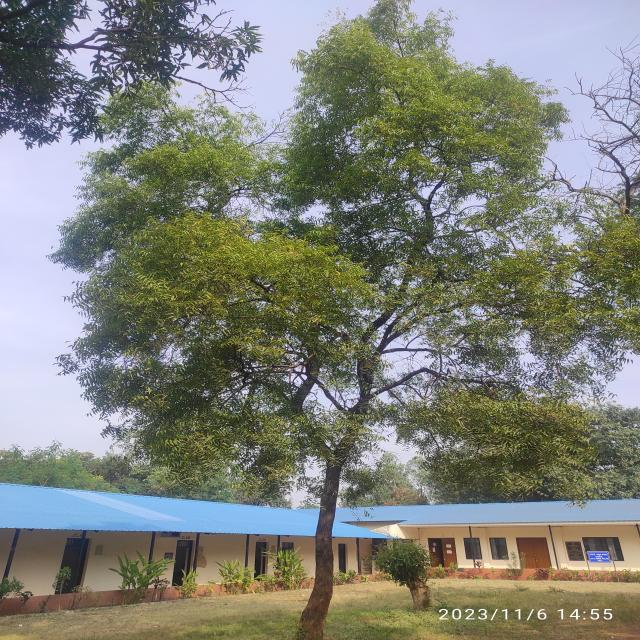Mango Tree: (1, 1, 220, 143)
Neem Tree: (103, 32, 606, 488)
